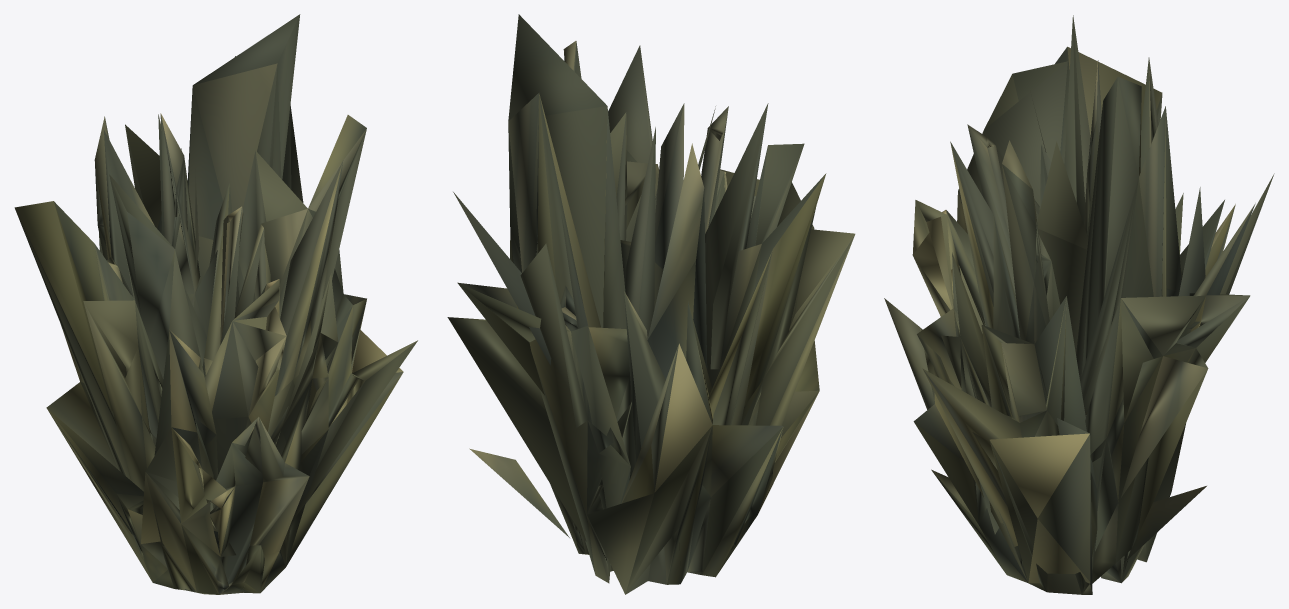
Rendered from grass.glb.
3 renders of one model, left to right at view 1: azimuth 30°, elevation 25°; view 2: azimuth 150°, elevation 25°; view 3: azimuth 270°, elevation 25°, orthographic. The views are drawn at different scales.
Parts seen in each view (by area): view 1: Mesh_0; view 2: Mesh_0; view 3: Mesh_0.
Part boxes in pixels (x1,y1,x2,y2): Mesh_0: (14,14,417,594); Mesh_0: (447,14,855,594); Mesh_0: (884,15,1274,594).
Bounding box in the file's own units: 1.03 × 1.62 × 1.05.
Materials: 1 (1 with a texture image).
